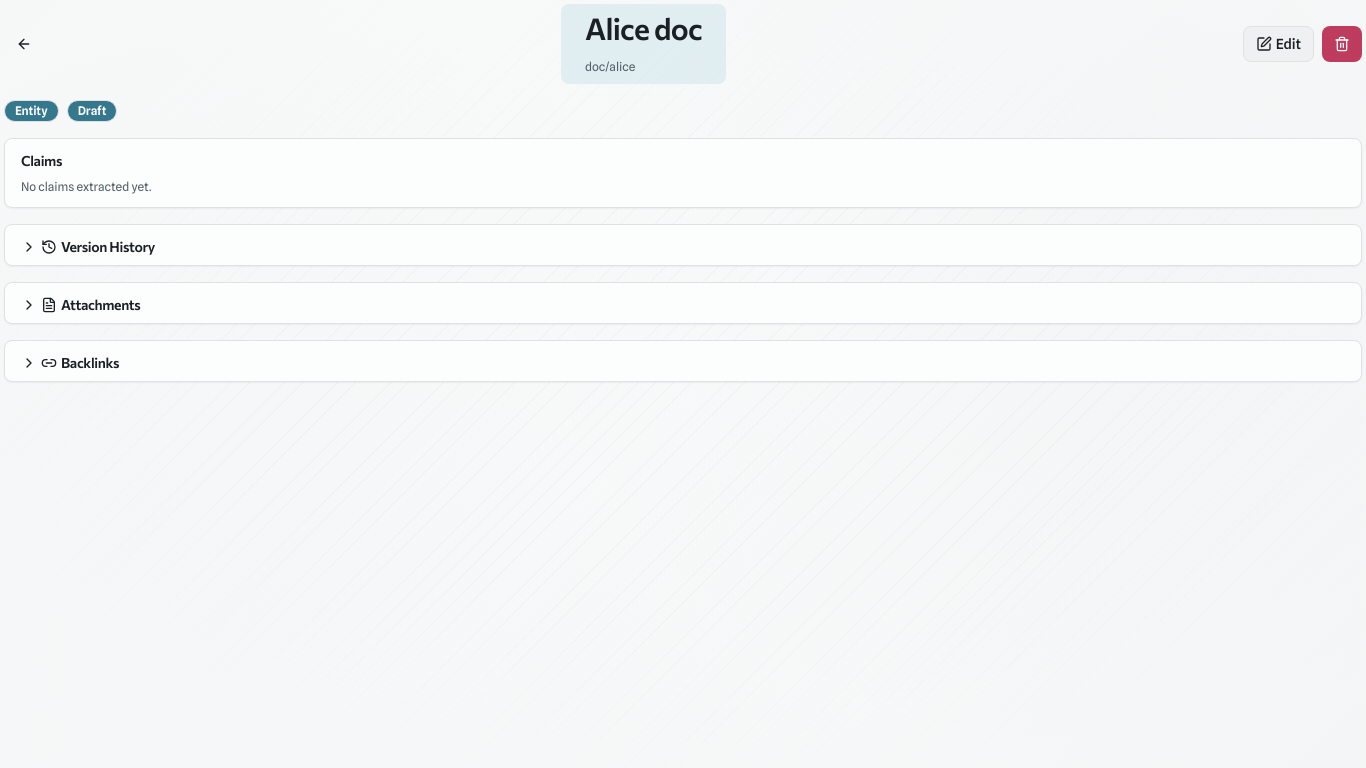
Test: WikiPageDetail VersionHistorySection › does not fetch until expanded, then fetches once (array shape)
This screenshot has width=1366, height=768.
Click the heading "Version History" at (88, 246), box [21,238,155,255]
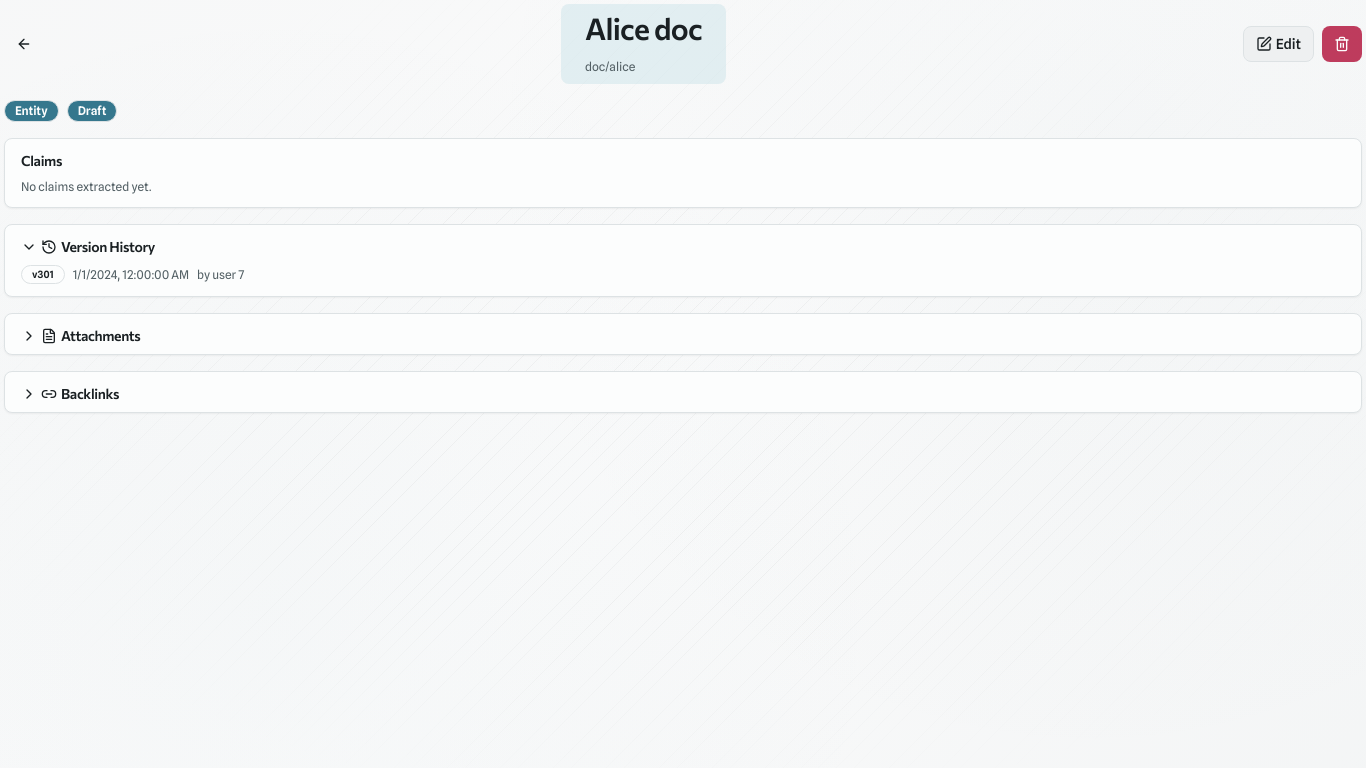
Check: the text "v301" is shown, box [21,265,65,284]
